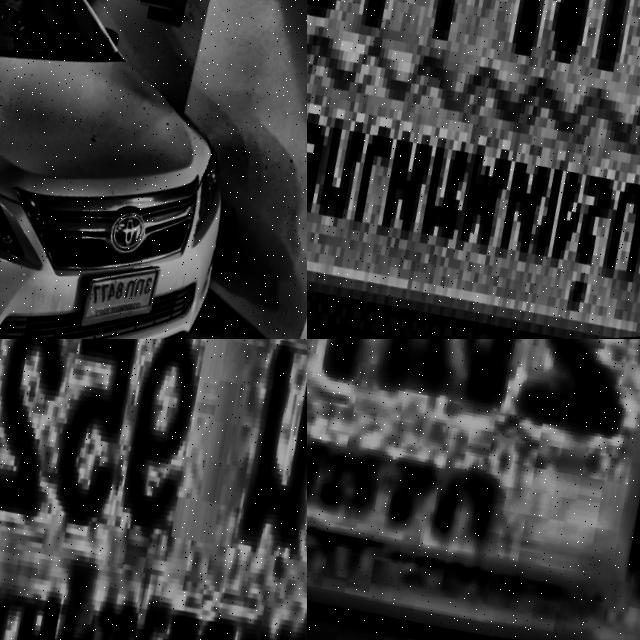license-plate: (307, 0, 640, 339), (307, 339, 640, 640), (0, 339, 307, 640), (63, 252, 159, 339)
